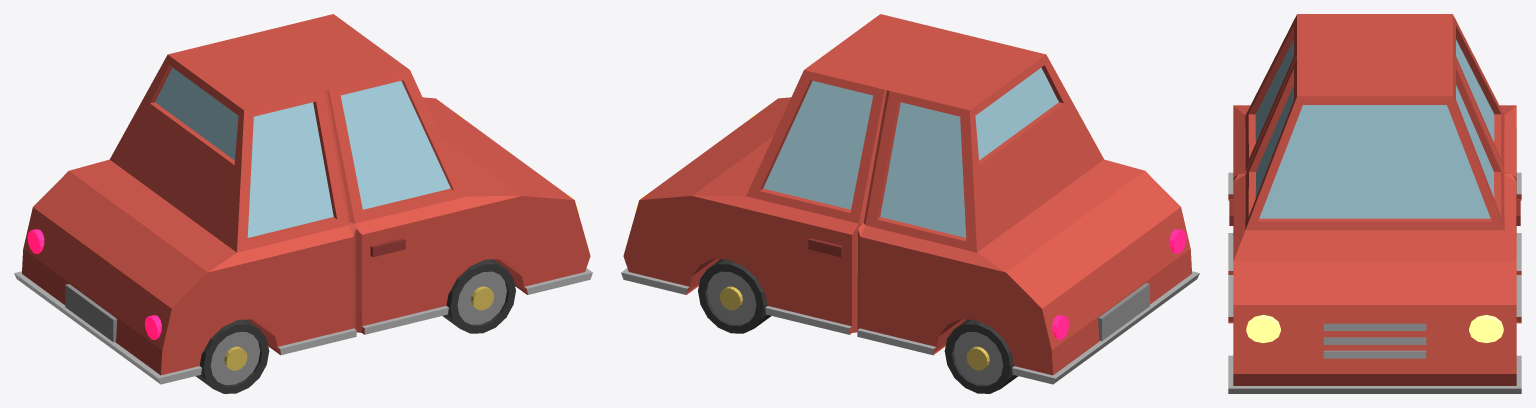
The model's file is 2_car_red.fbx.
The picture shows the model from 3 angles, left to right: view 1: azimuth 30°, elevation 25°; view 2: azimuth 150°, elevation 25°; view 3: azimuth 270°, elevation 25°; orthographic projection.
Parts seen in each view (by area): view 1: Cube, Cylinder, Cube.002, Cylinder.009; view 2: Cube, Cylinder, Cube.002, Cylinder.009; view 3: Cube, Cube.001, Cylinder.008, Cube.003.
Part boxes in pixels (box(x1,y1,x2,y2)): Cube: box(14, 14, 592, 384); Cylinder: box(195, 259, 515, 393); Cube.002: box(65, 284, 117, 341); Cylinder.009: box(27, 229, 161, 339); Cube: box(621, 14, 1199, 384); Cylinder: box(698, 259, 1018, 393); Cube.002: box(1098, 283, 1149, 340); Cylinder.009: box(1052, 229, 1186, 339); Cube: box(1228, 14, 1521, 393); Cube.001: box(1323, 323, 1426, 358); Cylinder.008: box(1246, 315, 1503, 343); Cube.003: box(1229, 199, 1520, 225).
Size of the model in its own units: 102 by 56.41 by 58.34.
